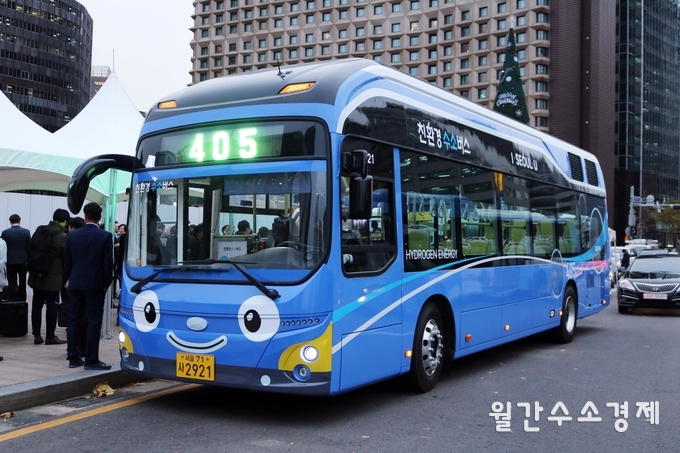bnum: (186, 127, 261, 164)
